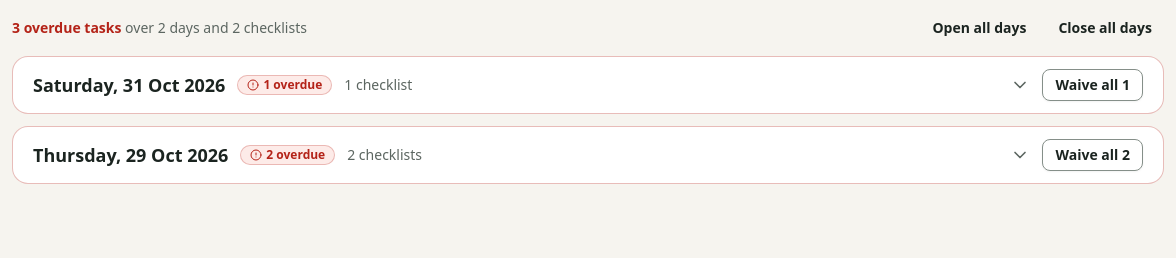
Test case: OverdueBacklog › lists the overdue days newest first with their counts, and opens a day on request
Expected: the text "3 overdue tasks" is shown, [12,18,122,37]
Expected: the text "2 overdue" is shown, [240,145,335,165]
Click the button "Thursday, 29 Oct 2026 2 overdue 2 checklists": (74, 155) [33,141,1030,169]
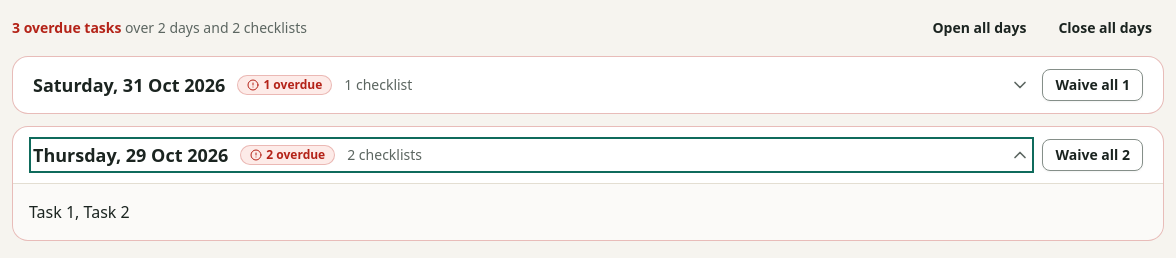
Now the button "Thursday, 29 Oct 2026 2 overdue 2 checklists" is expanded, box [33,141,1030,169]
